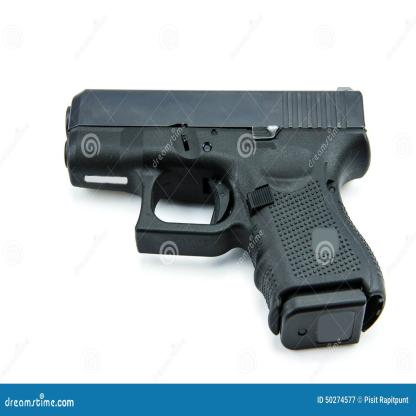handgun: (63, 86, 386, 348)
